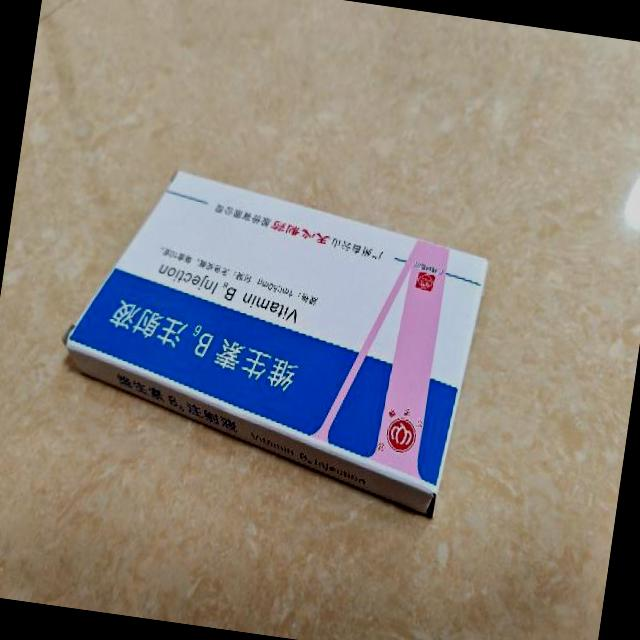box: (46, 158, 496, 526)
